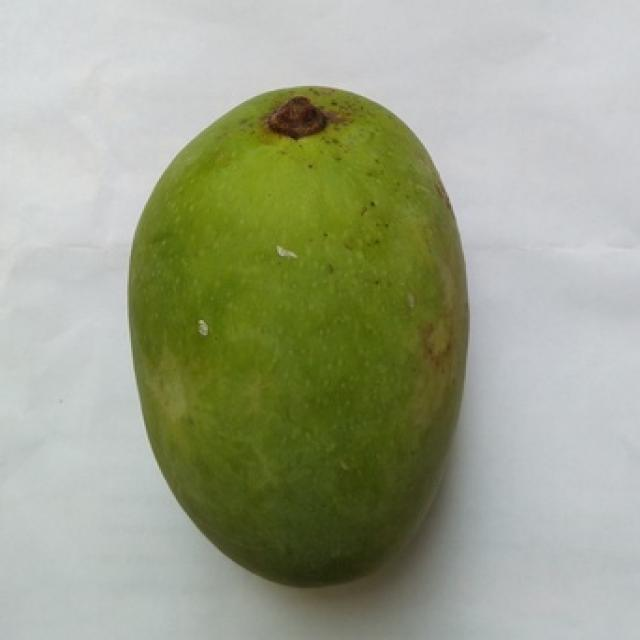Mango: (129, 88, 466, 583)
